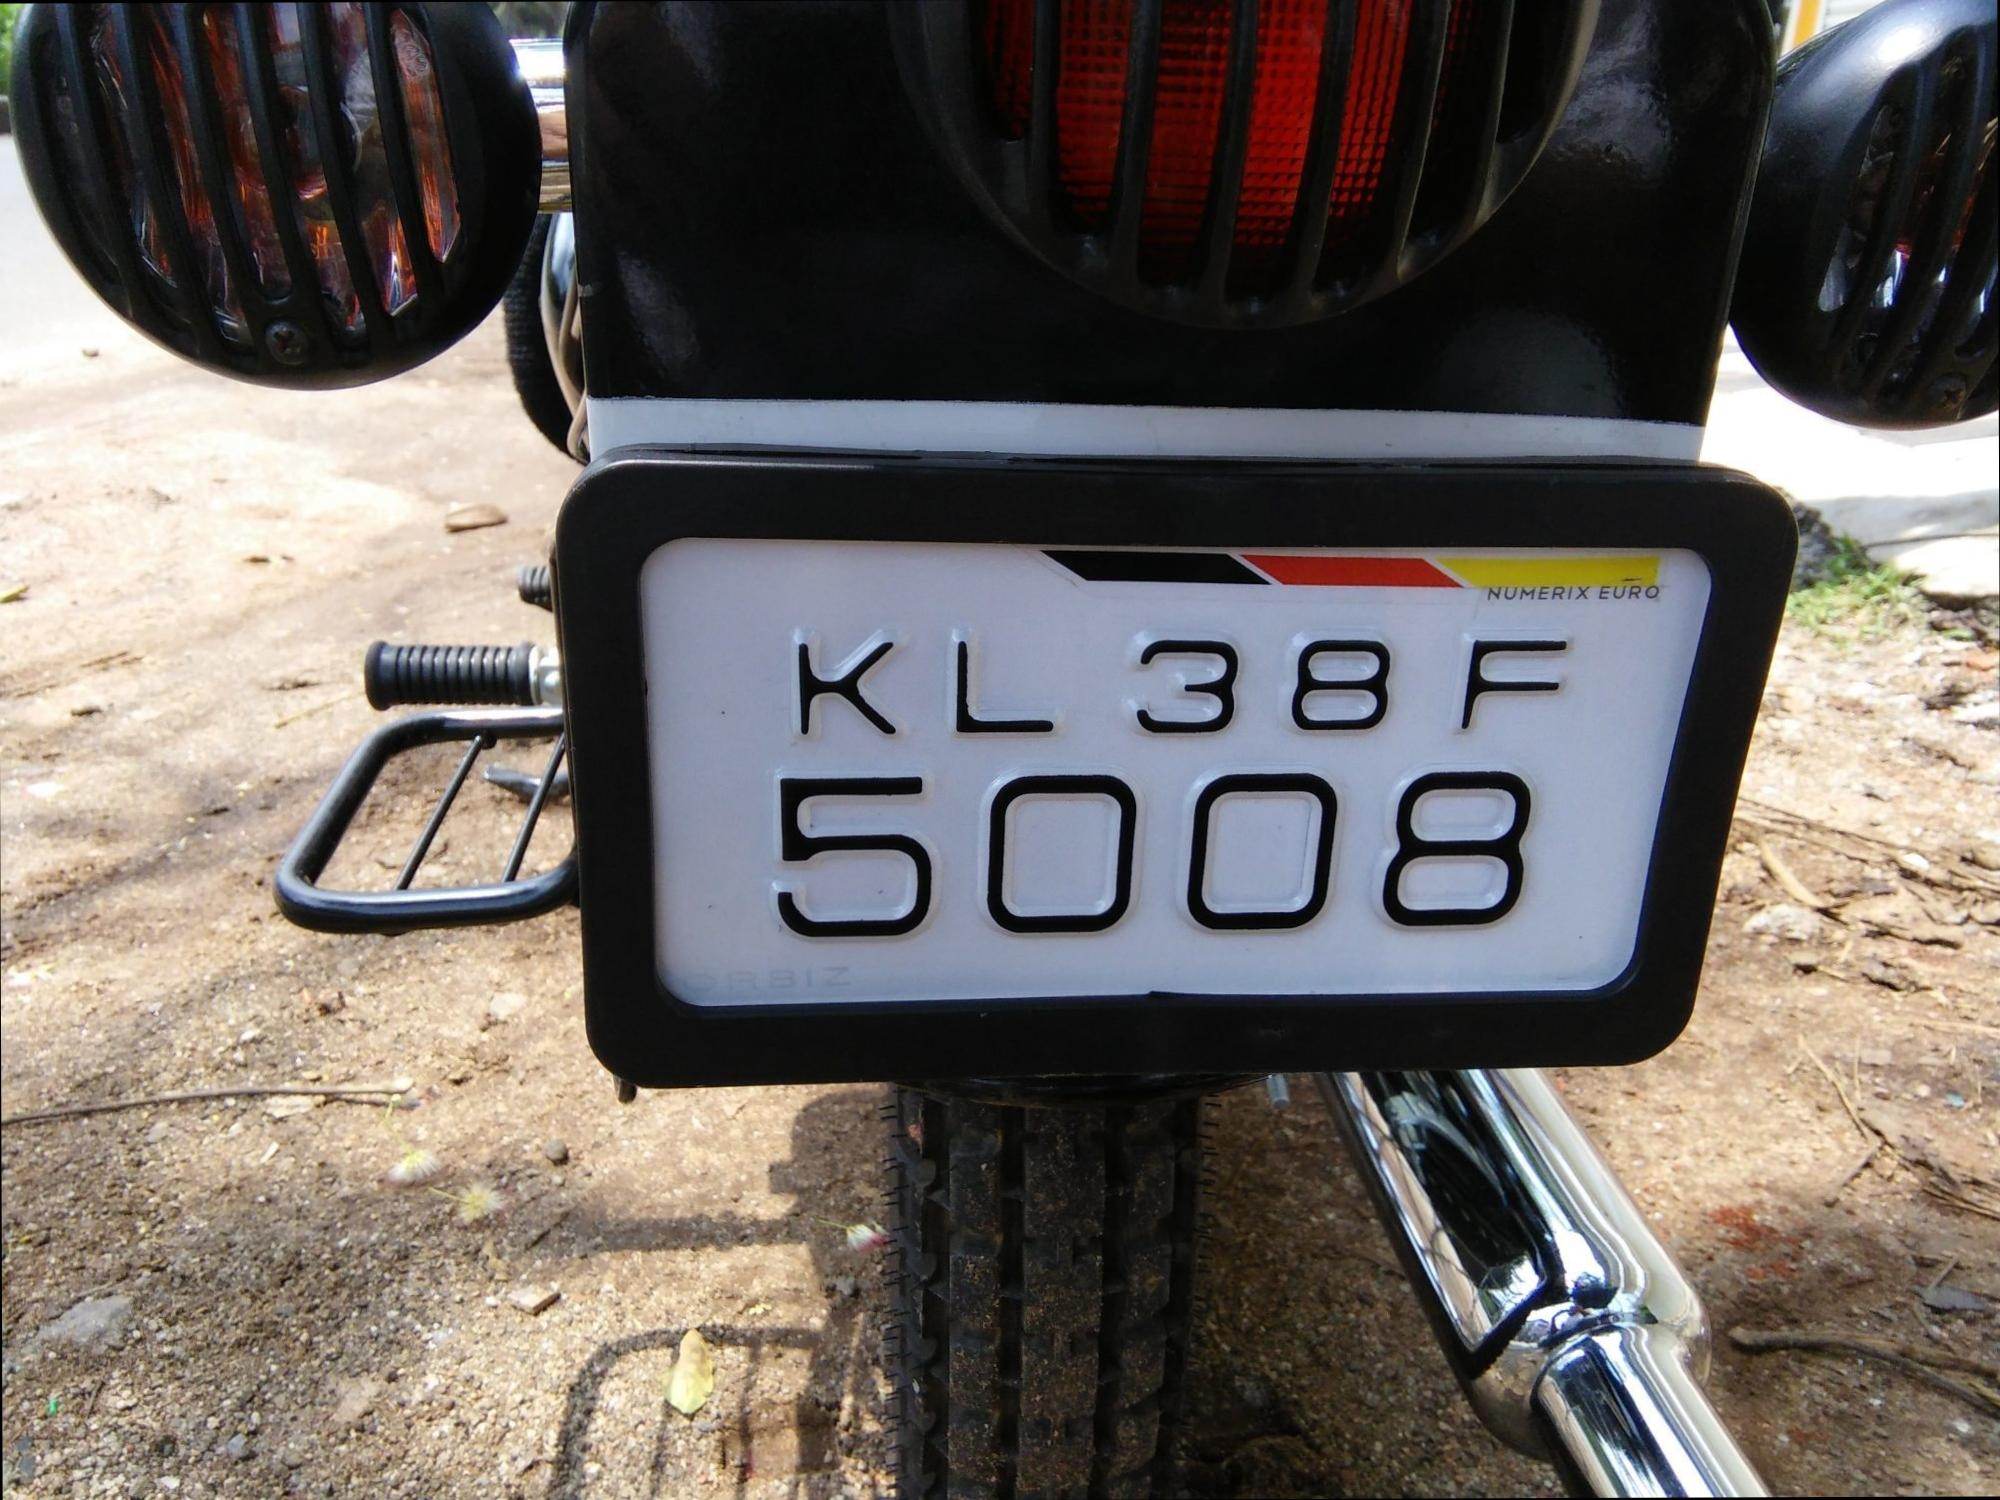plate: (553, 438, 1746, 1080)
